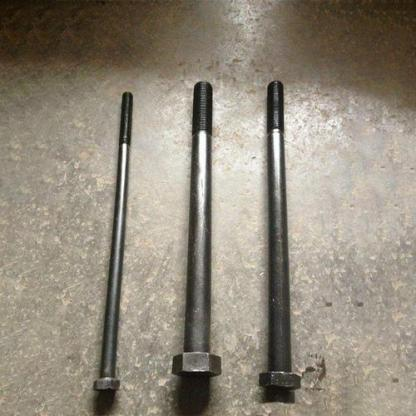FOD: (169, 77, 225, 381), (257, 78, 304, 391), (90, 90, 136, 393)
